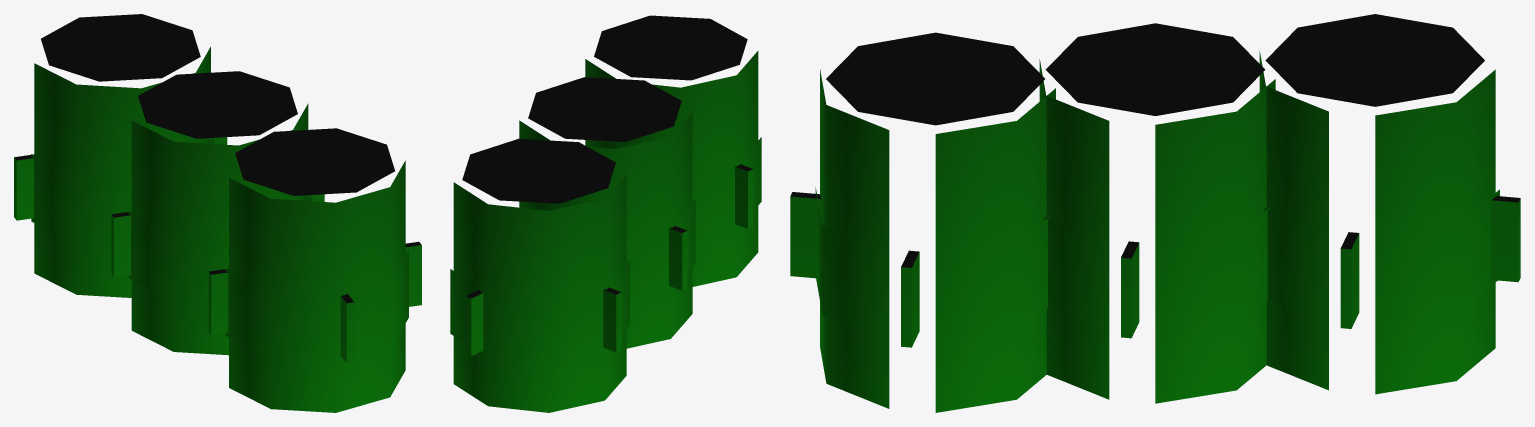
File: barrels.glb
3 renders of one model, left to right at view 1: azimuth 30°, elevation 25°; view 2: azimuth 150°, elevation 25°; view 3: azimuth 270°, elevation 25°, orthographic. The views are drawn at different scales.
Parts seen in each view (by area): view 1: lod0; view 2: lod0; view 3: lod0.
Part boxes in pixels (x1,y1,x2,y2): lod0: (14, 14, 421, 412); lod0: (450, 15, 761, 412); lod0: (790, 14, 1520, 412).
Size of what is drawn, in the model's own units: 1.52 by 1.42 by 3.32.
